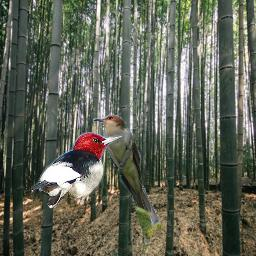Cuckoo: (93, 114, 162, 244)
Woodpecker: (31, 132, 125, 210)
